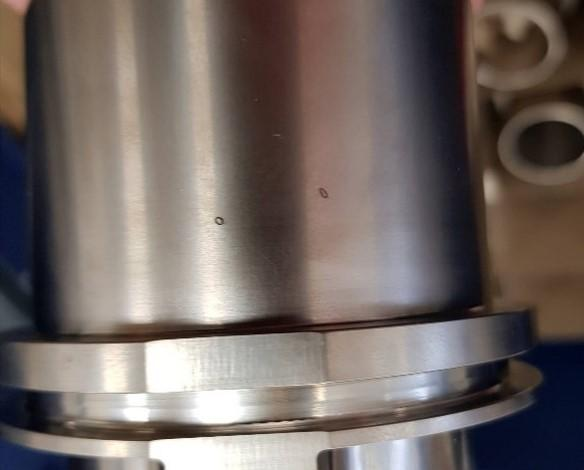damage: (210, 210, 230, 232), (315, 185, 334, 202)
objects: (6, 0, 554, 470)
